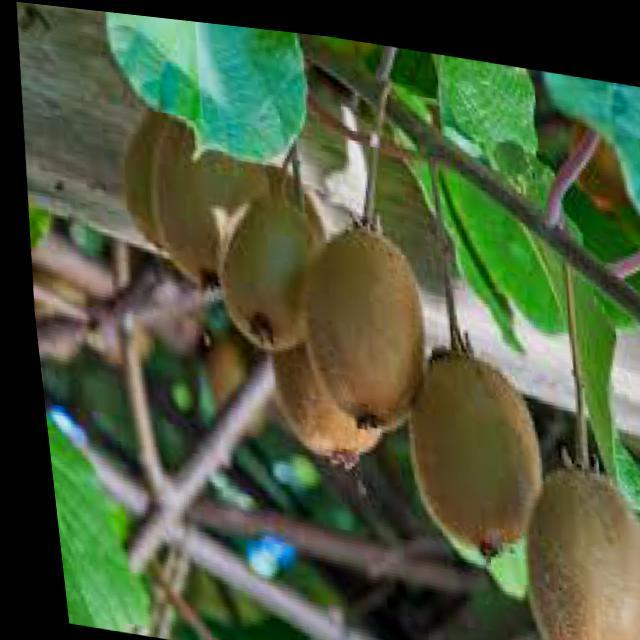kiwi: (294, 205, 433, 430), (393, 329, 541, 540), (505, 444, 640, 640), (208, 176, 315, 346), (107, 110, 174, 245), (184, 111, 214, 273)
